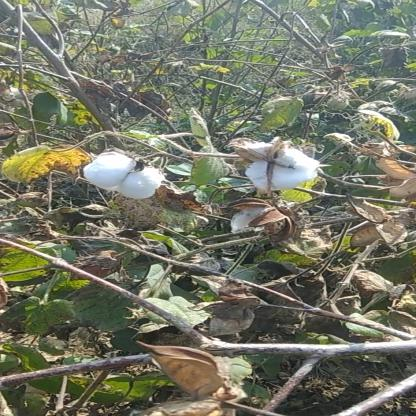cotton_ready: (232, 132, 335, 198), (74, 154, 166, 212)
